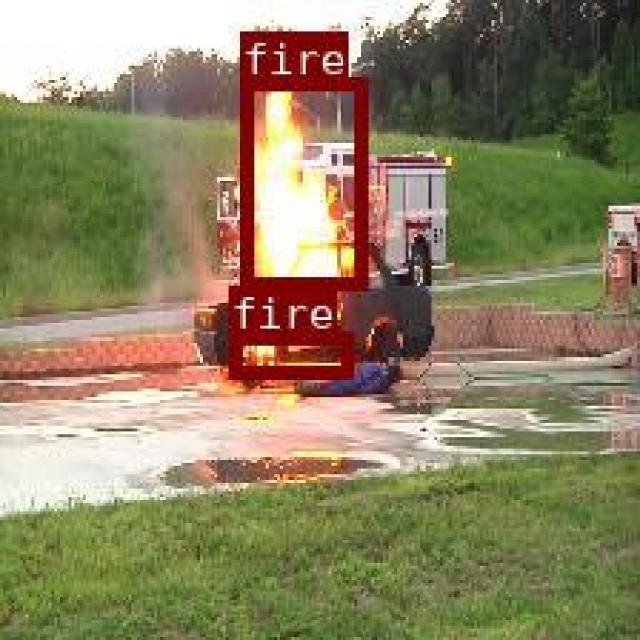fire: (238, 76, 363, 288), (228, 329, 351, 377)
